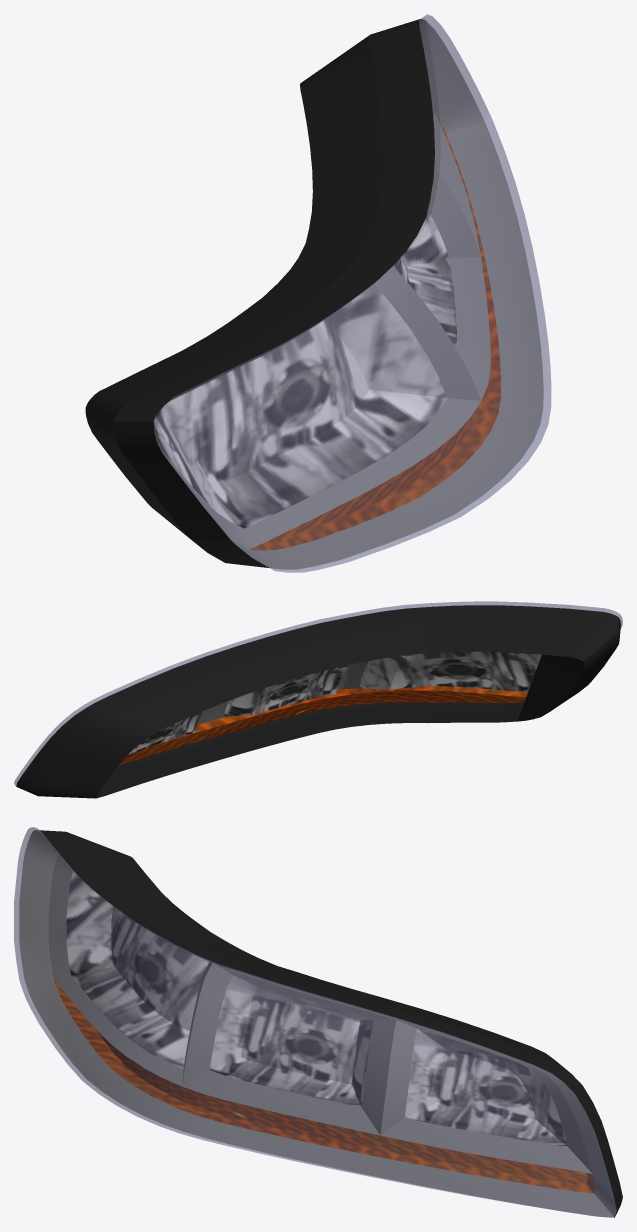
The picture shows the model from 3 angles, top to bottom: view 1: azimuth 30°, elevation 25°; view 2: azimuth 150°, elevation 25°; view 3: azimuth 270°, elevation 25°; orthographic projection. The views are drawn at different scales.
Parts seen in each view (by area): view 1: H126_061B_R_H126_061B_R_7_DTaSI, H126_061B_R_H126_061B_R_6_D, H126_061B_R_H126_061B_R_5_DaS, H126_061B_R_H126_061B_R_3_N, H126_061B_R_H126_061B_R_4_N, H126_061B_R_1_N_H126_061B_R; view 2: H126_061B_R_H126_061B_R_6_D, H126_061B_R_H126_061B_R_3_N, H126_061B_R_H126_061B_R_4_N, H126_061B_R_H126_061B_R_7_DTaSI, H126_061B_R_1_N_H126_061B_R, H126_061B_R_H126_061B_R_5_DaS, H126_061B_R_H126_061B_R_2_N; view 3: H126_061B_R_H126_061B_R_7_DTaSI, H126_061B_R_H126_061B_R_5_DaS, H126_061B_R_H126_061B_R_6_D, H126_061B_R_H126_061B_R_3_N, H126_061B_R_1_N_H126_061B_R, H126_061B_R_H126_061B_R_4_N, H126_061B_R_H126_061B_R_2_N.
Boxes of the visible parts, bbox=[...] form: H126_061B_R_H126_061B_R_7_DTaSI: bbox=[154, 14, 551, 572]; H126_061B_R_H126_061B_R_6_D: bbox=[85, 19, 434, 567]; H126_061B_R_H126_061B_R_5_DaS: bbox=[160, 19, 543, 569]; H126_061B_R_H126_061B_R_3_N: bbox=[153, 284, 447, 528]; H126_061B_R_H126_061B_R_4_N: bbox=[250, 117, 500, 550]; H126_061B_R_1_N_H126_061B_R: bbox=[393, 211, 456, 347]; H126_061B_R_H126_061B_R_6_D: bbox=[16, 605, 620, 798]; H126_061B_R_H126_061B_R_3_N: bbox=[358, 651, 541, 691]; H126_061B_R_H126_061B_R_4_N: bbox=[119, 686, 527, 765]; H126_061B_R_H126_061B_R_7_DTaSI: bbox=[14, 601, 622, 785]; H126_061B_R_1_N_H126_061B_R: bbox=[224, 664, 349, 716]; H126_061B_R_H126_061B_R_5_DaS: bbox=[197, 661, 368, 725]; H126_061B_R_H126_061B_R_2_N: bbox=[129, 710, 204, 753]; H126_061B_R_H126_061B_R_7_DTaSI: bbox=[14, 827, 616, 1217]; H126_061B_R_H126_061B_R_5_DaS: bbox=[19, 830, 616, 1217]; H126_061B_R_H126_061B_R_6_D: bbox=[39, 830, 622, 1216]; H126_061B_R_H126_061B_R_3_N: bbox=[66, 871, 209, 1068]; H126_061B_R_1_N_H126_061B_R: bbox=[210, 975, 373, 1107]; H126_061B_R_H126_061B_R_4_N: bbox=[54, 979, 595, 1193]; H126_061B_R_H126_061B_R_2_N: bbox=[405, 1029, 567, 1147].
Bounding box in the file's own units: 50.77 × 13.95 × 50.69.
